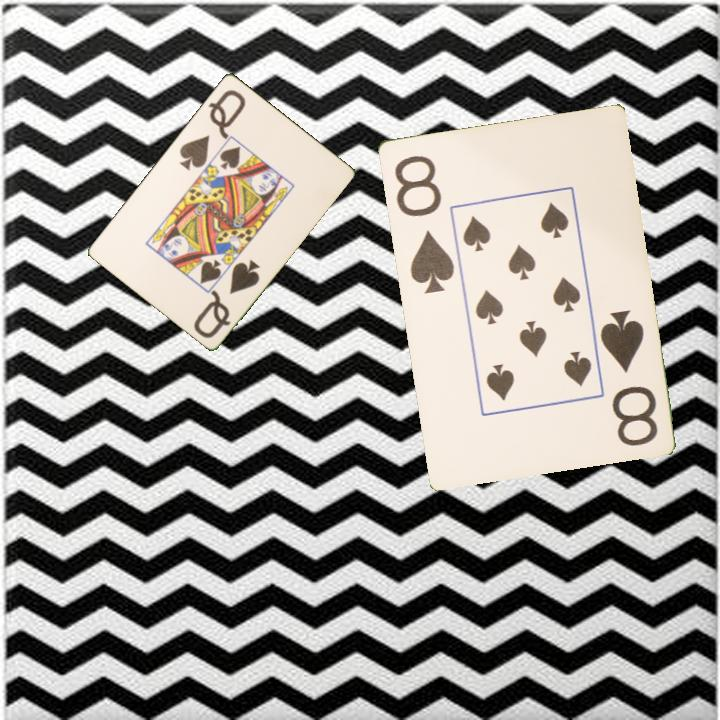8s: (390, 151, 457, 296), (596, 305, 660, 449)
Qs: (176, 85, 249, 173), (190, 255, 263, 341)
